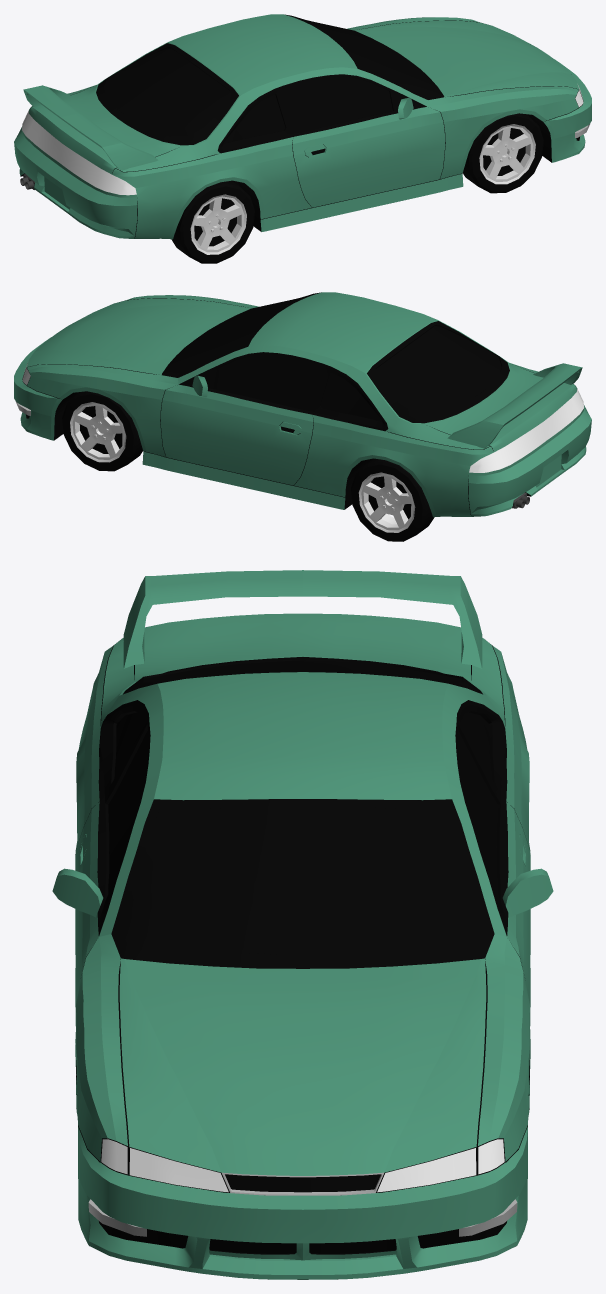
The model's file is Car_R.glb.
3 views of the same model, one above another, from view 1: azimuth 30°, elevation 25°; view 2: azimuth 150°, elevation 25°; view 3: azimuth 270°, elevation 25° (orthographic). The views are drawn at different scales.
Parts seen in each view (by area): view 1: Car_R; view 2: Car_R; view 3: Car_R.
Boxes of the visible parts, x1=… form: Car_R: x1=14, y1=14, x2=591, y2=263; Car_R: x1=14, y1=292, x2=591, y2=541; Car_R: x1=52, y1=570, x2=553, y2=1279.
Size of the model in its own units: 1.13 by 0.3261 by 0.4753.
